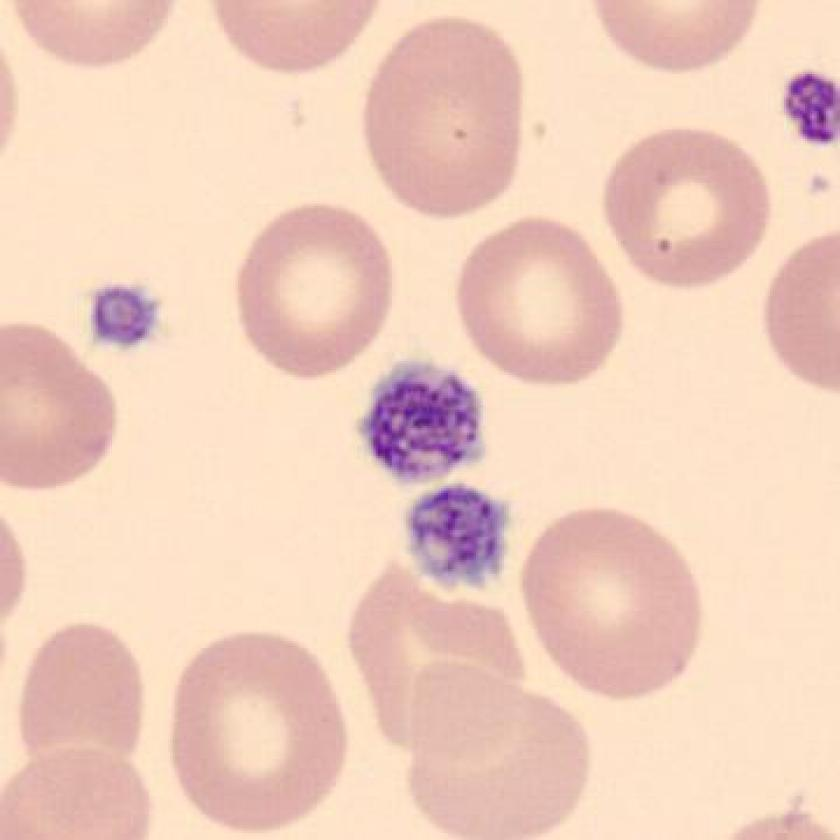platelets: (349, 351, 493, 485), (400, 480, 517, 596), (80, 272, 160, 364), (780, 64, 840, 156)
